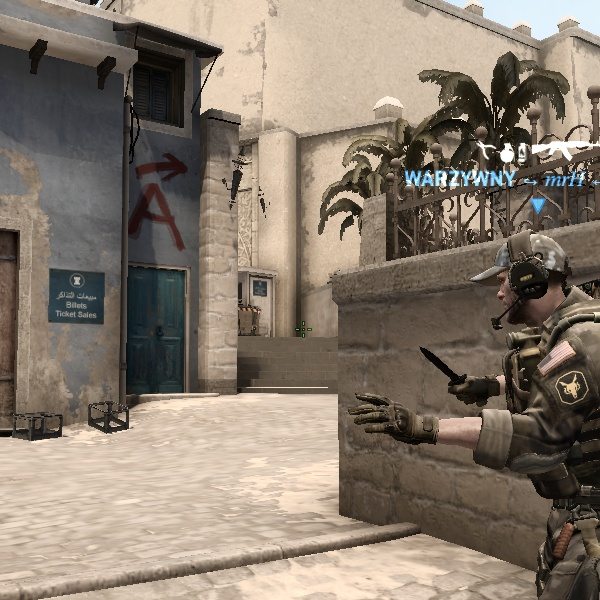ct_body: (431, 234, 597, 585)
ct_head: (476, 222, 591, 343)
